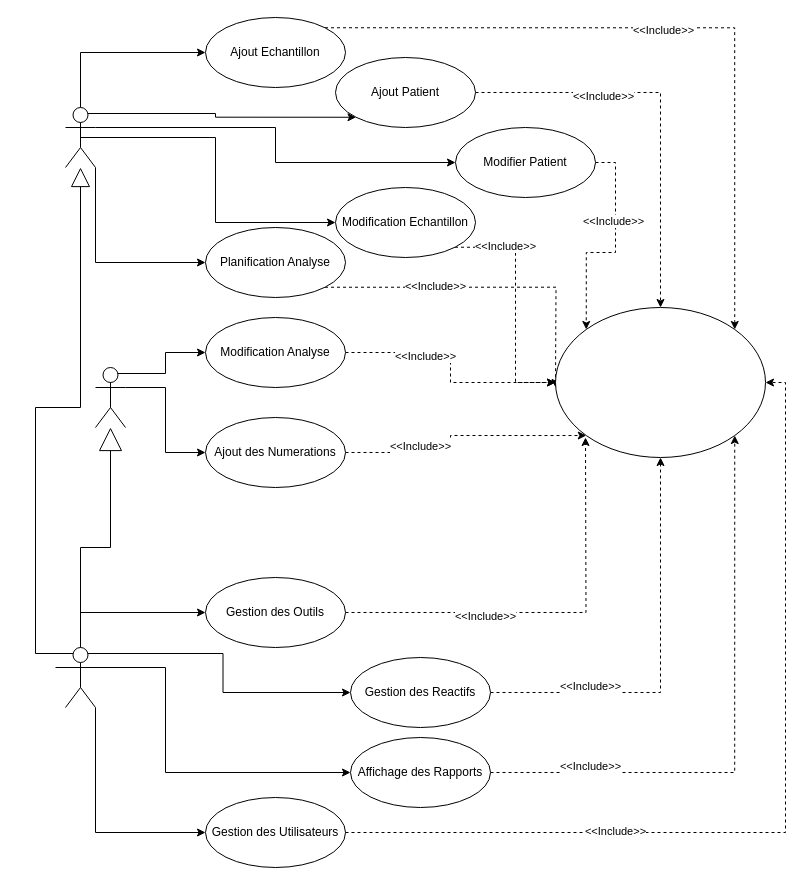
Some shapes in this 811 by 885 pixel diagram are drawn without their labels. Here are the shapes that lost their labels. From the top down, the centre of each, then its label:
(80,137): Preleveur
(110,397): Technicien
(660,382): Authentification
(80,677): Responsable
